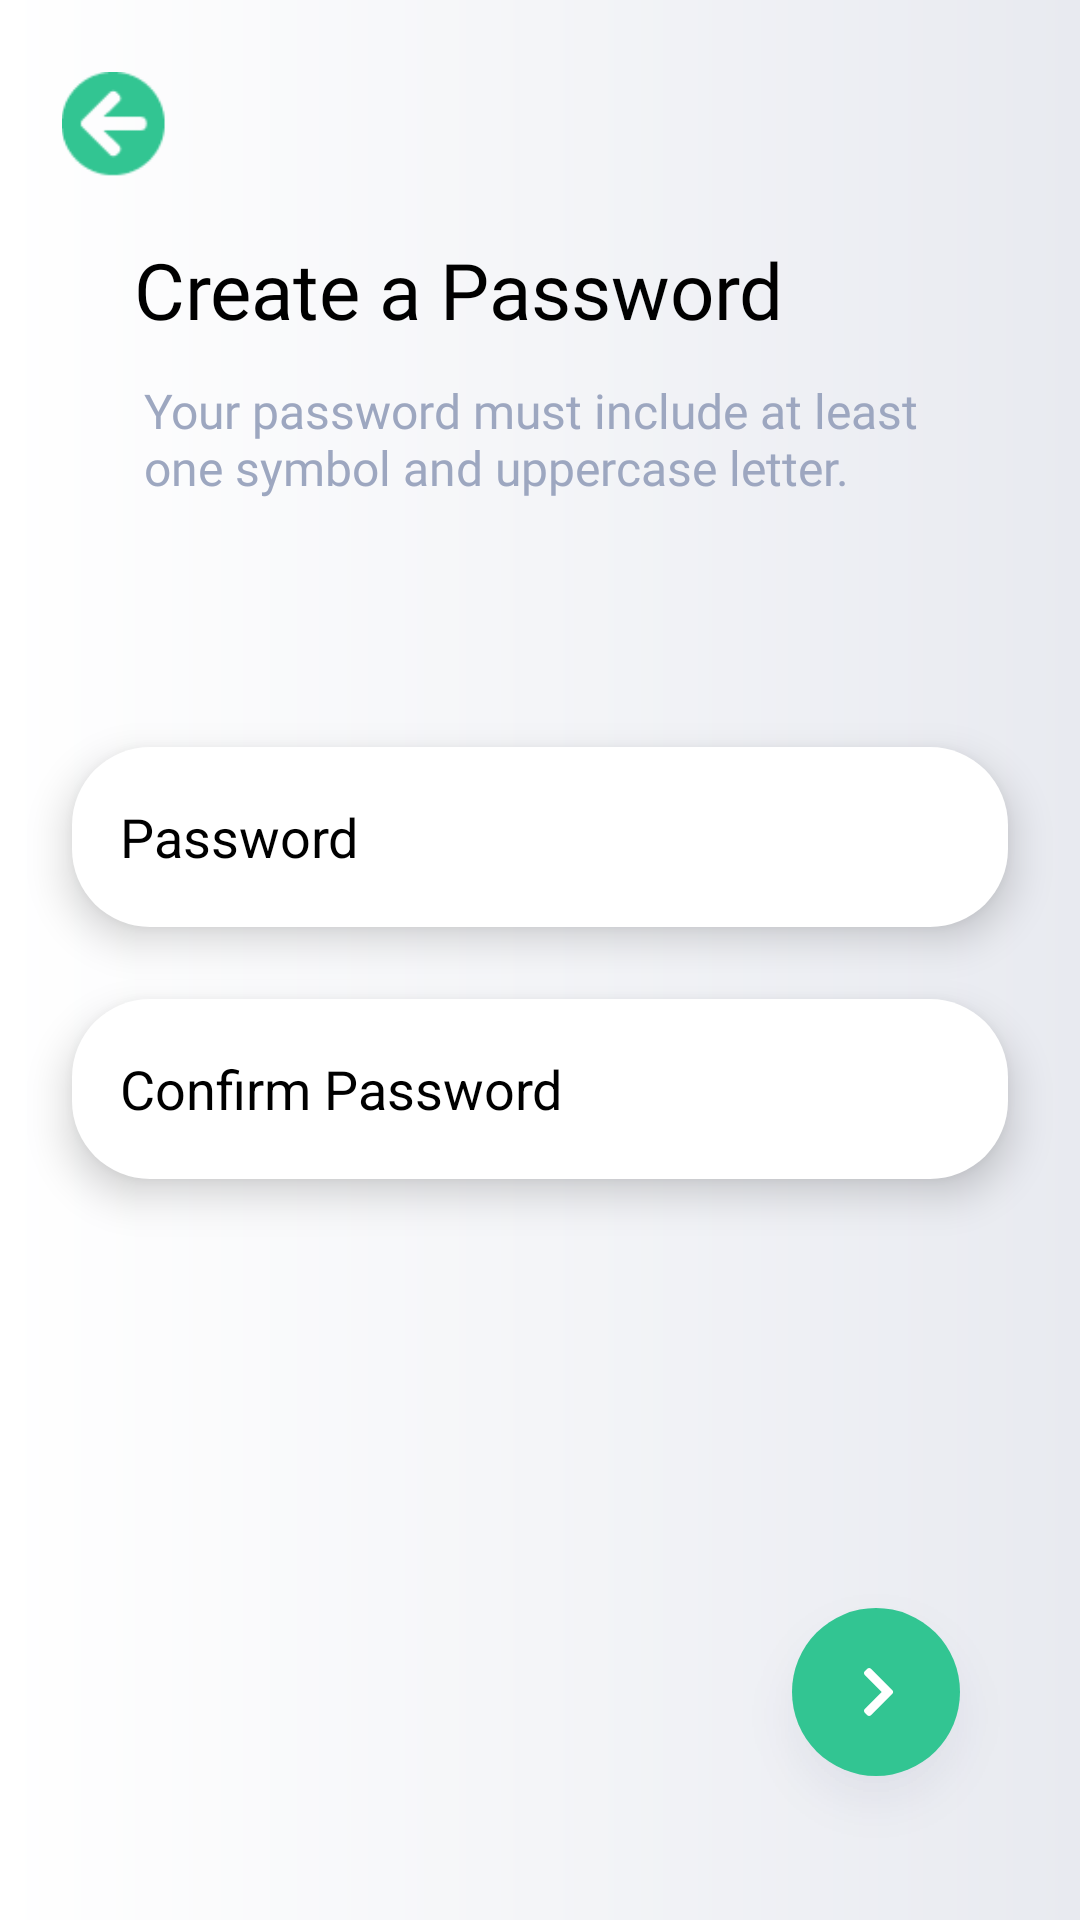

Icon bounding boxes for this 1080x1920 phone screenshot, format (x1, y1, x2, y2):
signupabackbutton: (62, 72, 165, 176)
signupanextbutton: (792, 1608, 960, 1776)
